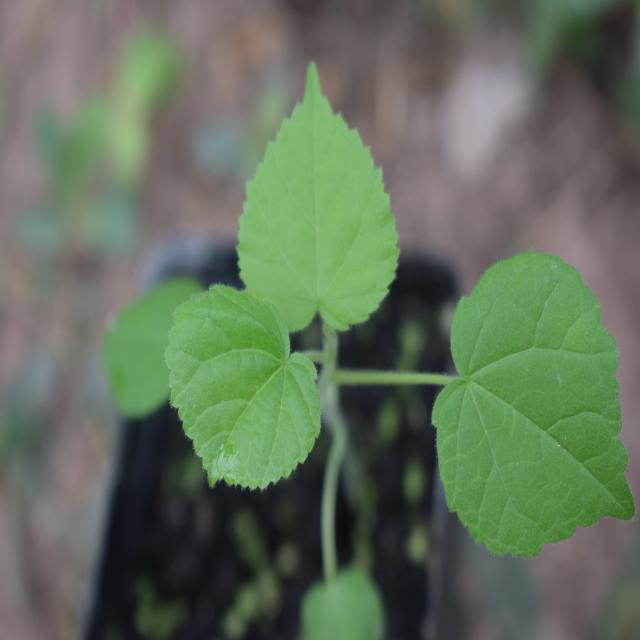abutilon theophrasti: (164, 91, 616, 546)
